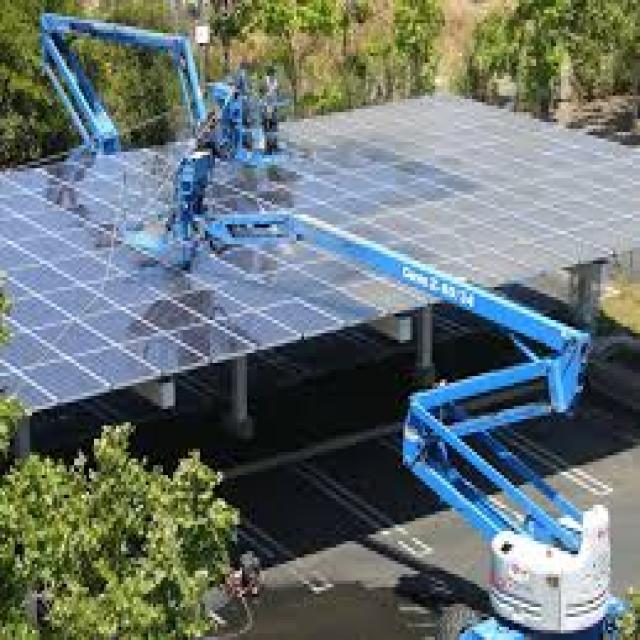clean-solar-panel: (4, 140, 436, 412)
dust-solar-panel: (281, 100, 640, 285)
